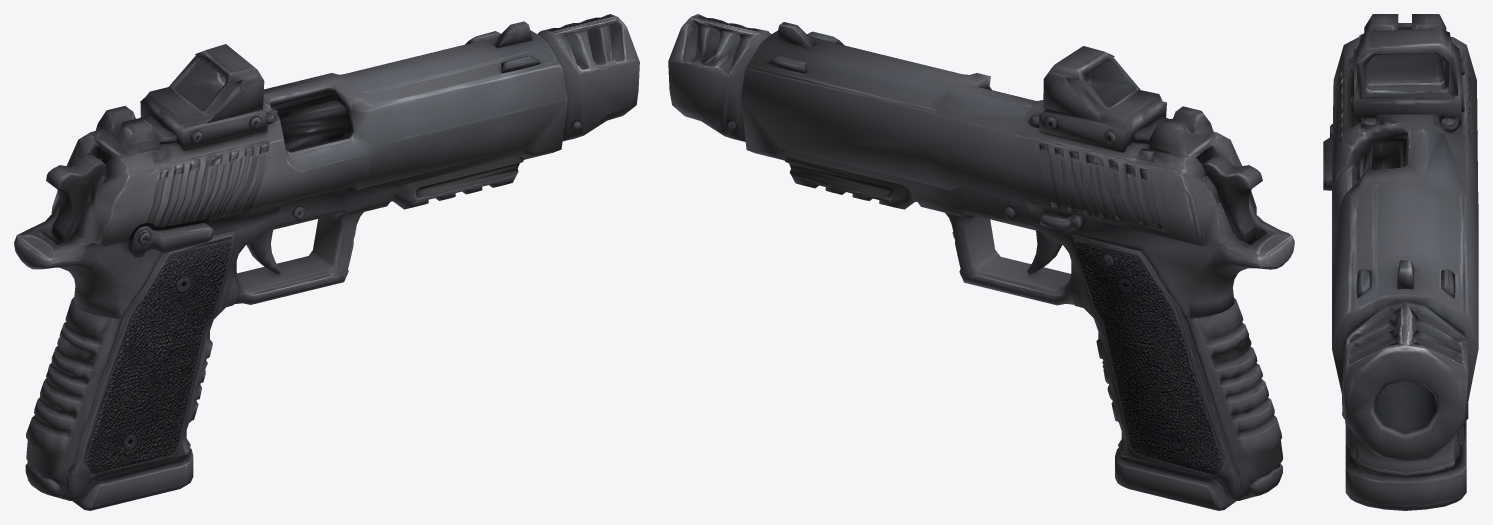
File: hp14_bastion.glb
3 renders of one model, left to right at view 1: azimuth 30°, elevation 25°; view 2: azimuth 150°, elevation 25°; view 3: azimuth 270°, elevation 25°, orthographic. The views are drawn at different scales.
Parts seen in each view (by area): view 1: hp14_bastion; view 2: hp14_bastion; view 3: hp14_bastion.
Boxes of the visible parts, box(x1,y1,x2,y2) form: hp14_bastion: box(14, 14, 639, 510); hp14_bastion: box(668, 14, 1294, 510); hp14_bastion: box(1323, 14, 1478, 510).
Size of the model in its own units: 0.32 by 0.2048 by 0.057.
1 material, 1 textured.
